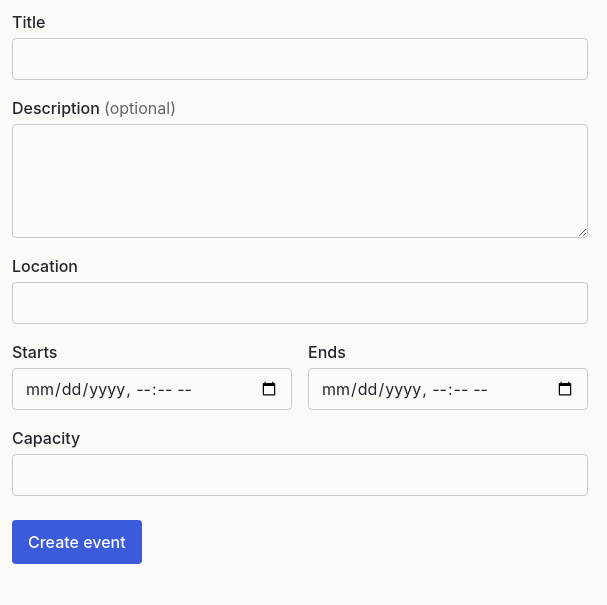
Test: EventForm › shows server field errors next to the right field
In the field labelled "Title": point(300, 59) top-left (12, 38), bottom-right (588, 80), type "Board games"
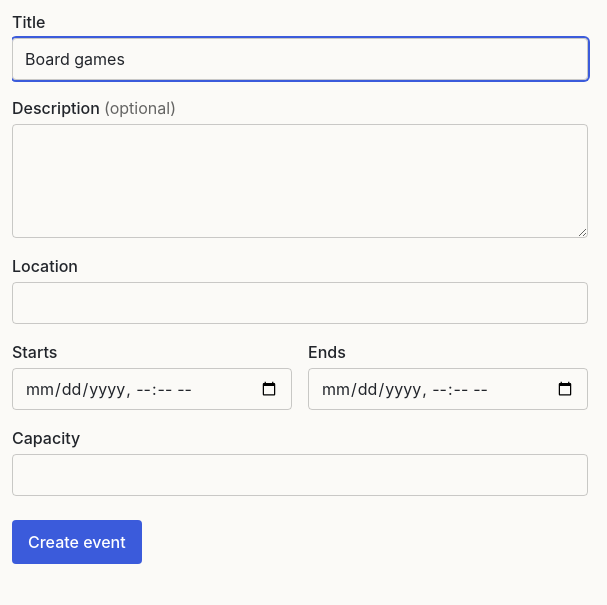
In the field labelled "Location": point(300, 303) top-left (12, 282), bottom-right (588, 324), type "Library"
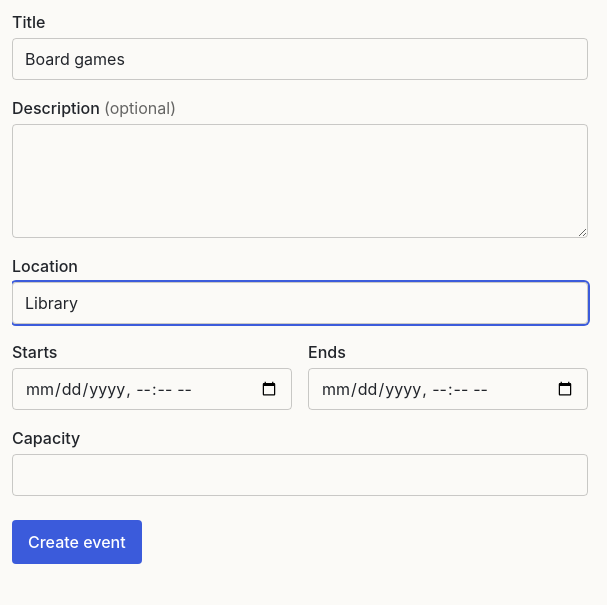
In the field labelled "Starts": point(152, 389) top-left (12, 368), bottom-right (292, 410), type "2026-11-14T18:00"
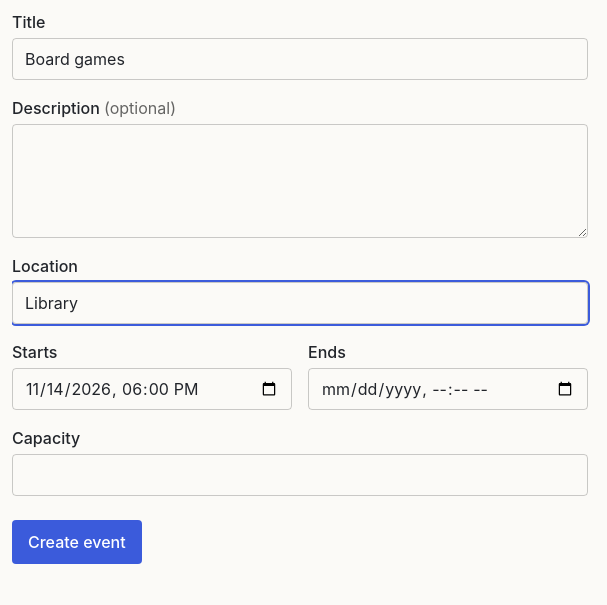
In the field labelled "Ends": point(448, 389) top-left (308, 368), bottom-right (588, 410), type "2026-11-14T21:00"
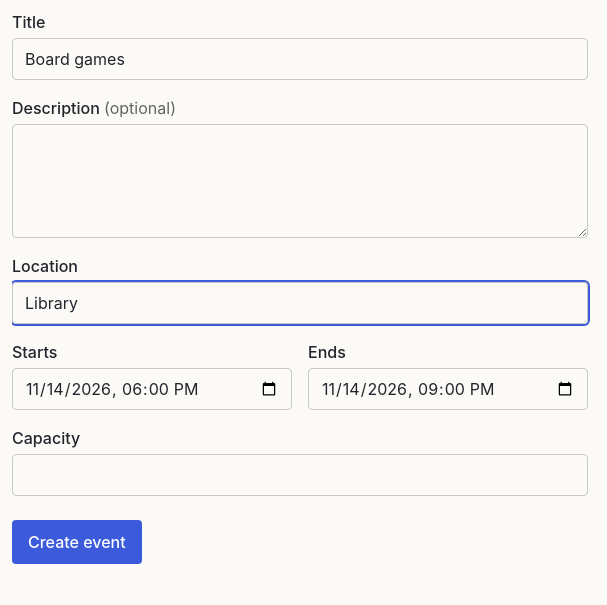
In the number field labelled "Capacity": point(300, 475) top-left (12, 454), bottom-right (588, 496), type "10"
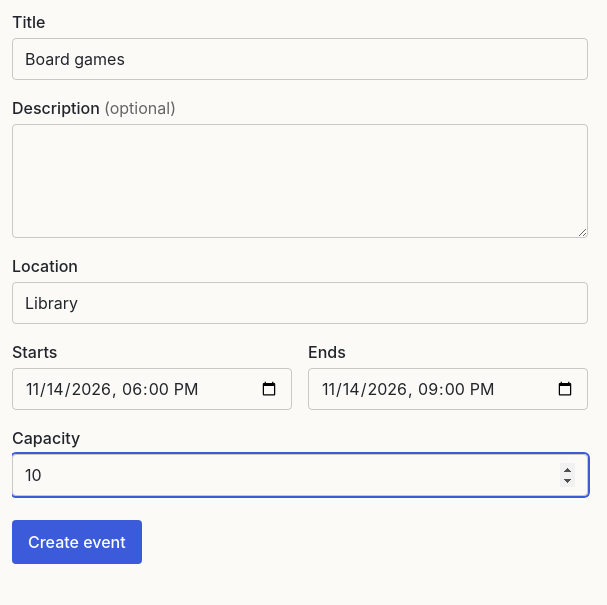
Click the button "Create event": point(77, 542) top-left (12, 520), bottom-right (142, 564)
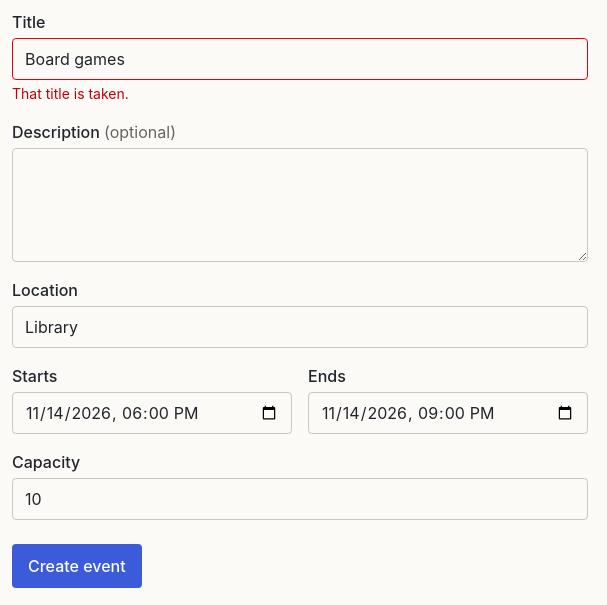
Result: the text "That title is taken." is shown at top-left (12, 85), bottom-right (129, 102)
